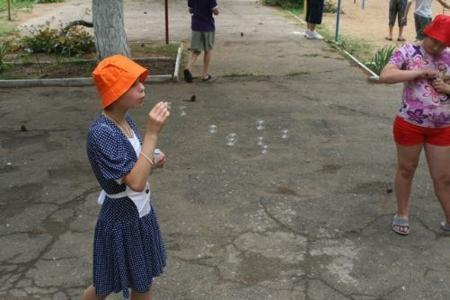person: (84, 54, 172, 299)
